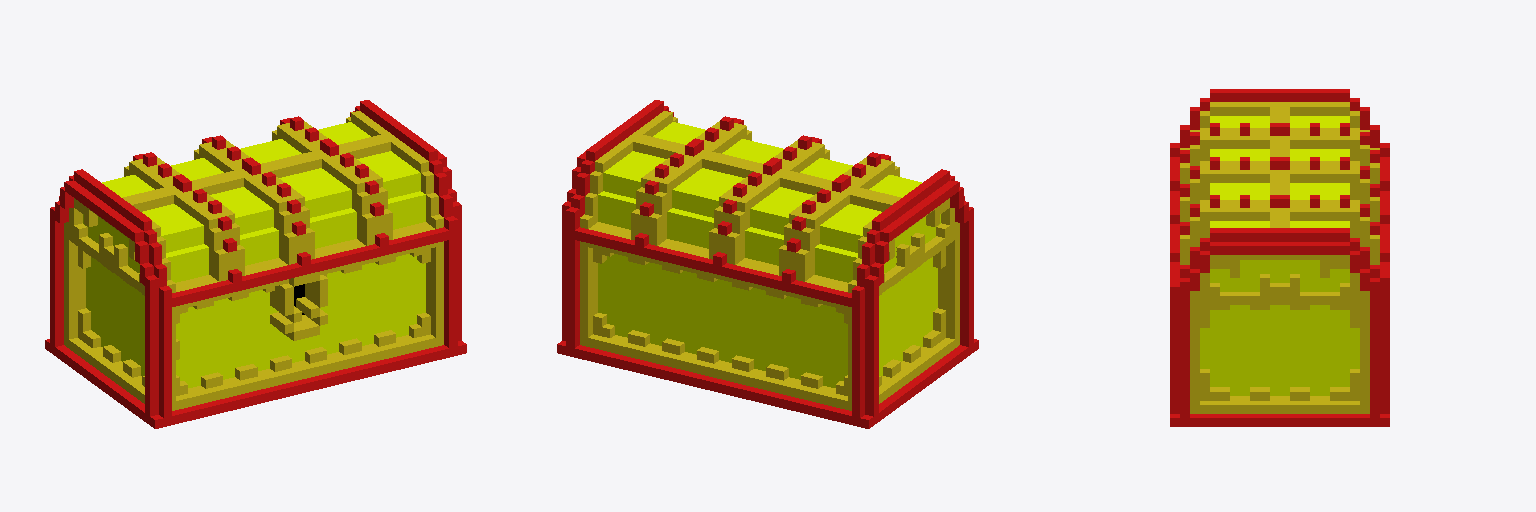
The picture shows the model from 3 angles: view 1: azimuth 30°, elevation 25°; view 2: azimuth 150°, elevation 25°; view 3: azimuth 270°, elevation 25°; orthographic projection.
Bounding box in the file's own units: 36 × 21 × 22.
1 materials, 1 textured.